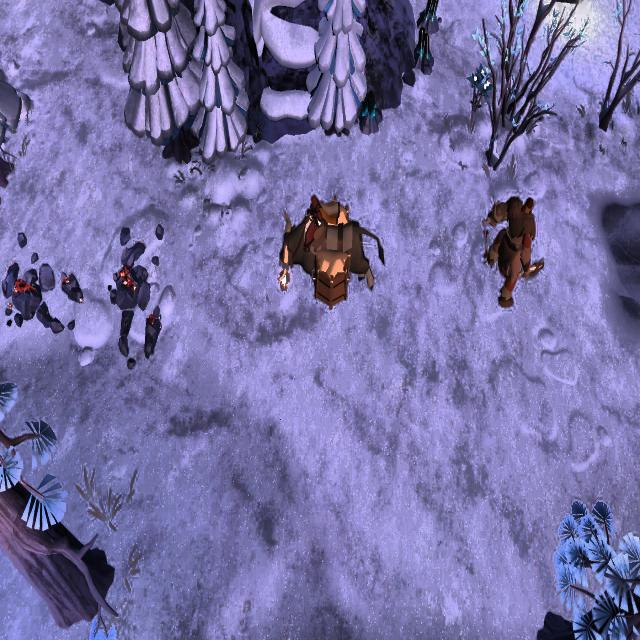enemy_factionKeeper: (484, 186, 543, 310)
fiber_t4: (467, 62, 492, 118)
ore_t4: (359, 92, 379, 124), (418, 25, 432, 64), (422, 0, 439, 26)
